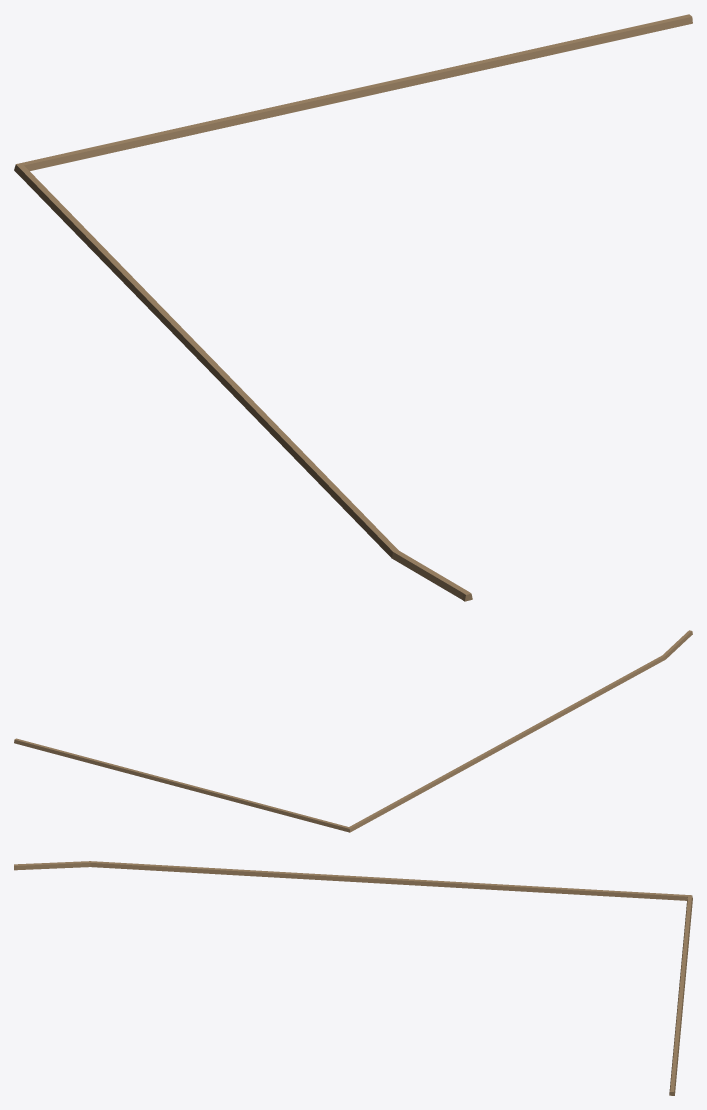
File: wall-11.glb
3 views of the same model, one above another, from view 1: azimuth 30°, elevation 25°; view 2: azimuth 150°, elevation 25°; view 3: azimuth 270°, elevation 25° (orthographic). The views are drawn at different scales.
Parts seen in each view (by area): view 1: C_wall_A_11; view 2: C_wall_A_11; view 3: C_wall_A_11.
Part boxes in pixels (bbox=[...]): C_wall_A_11: bbox=[14, 14, 692, 601]; C_wall_A_11: bbox=[14, 630, 692, 832]; C_wall_A_11: bbox=[14, 861, 692, 1095].
Size of the model in its own units: 763 by 6.03 by 947.
